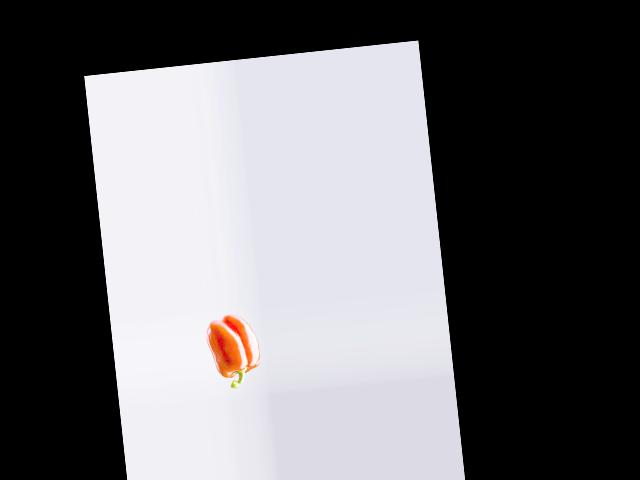bell_pepper: (203, 313, 265, 391)
